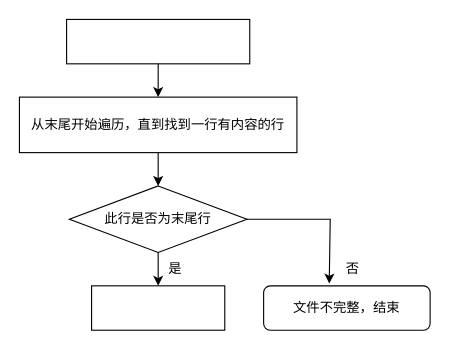
This 450x350 diagram has some shape labels left out. Here are the shapes that lost their labels. From the top down, the centre of each, then its label:
At (157,41): "将文件指针指向末尾".
At (157,307): "处理文件".
